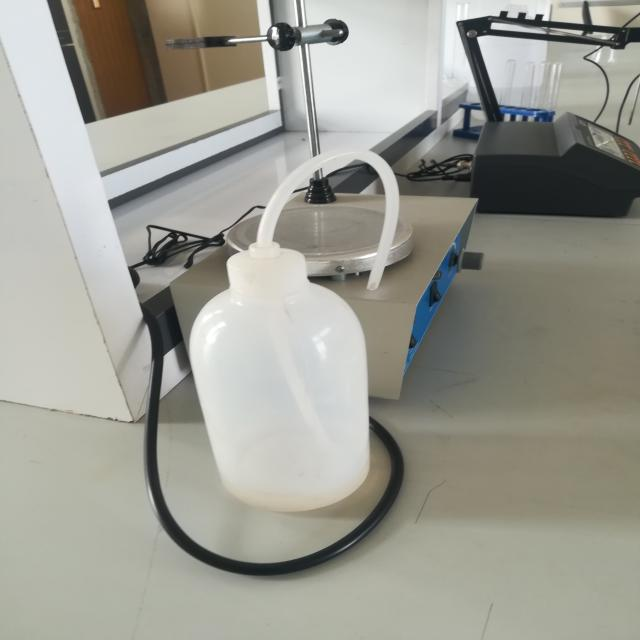Wash_Bottle: (144, 116, 449, 550)
